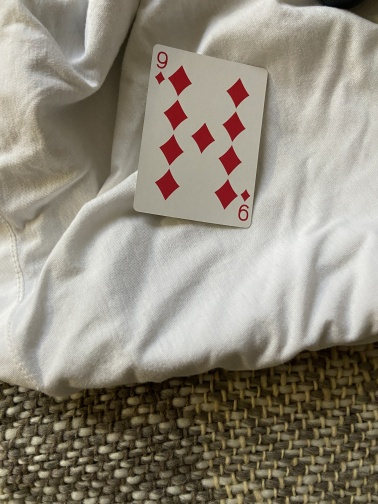nine: (131, 42, 270, 230)
